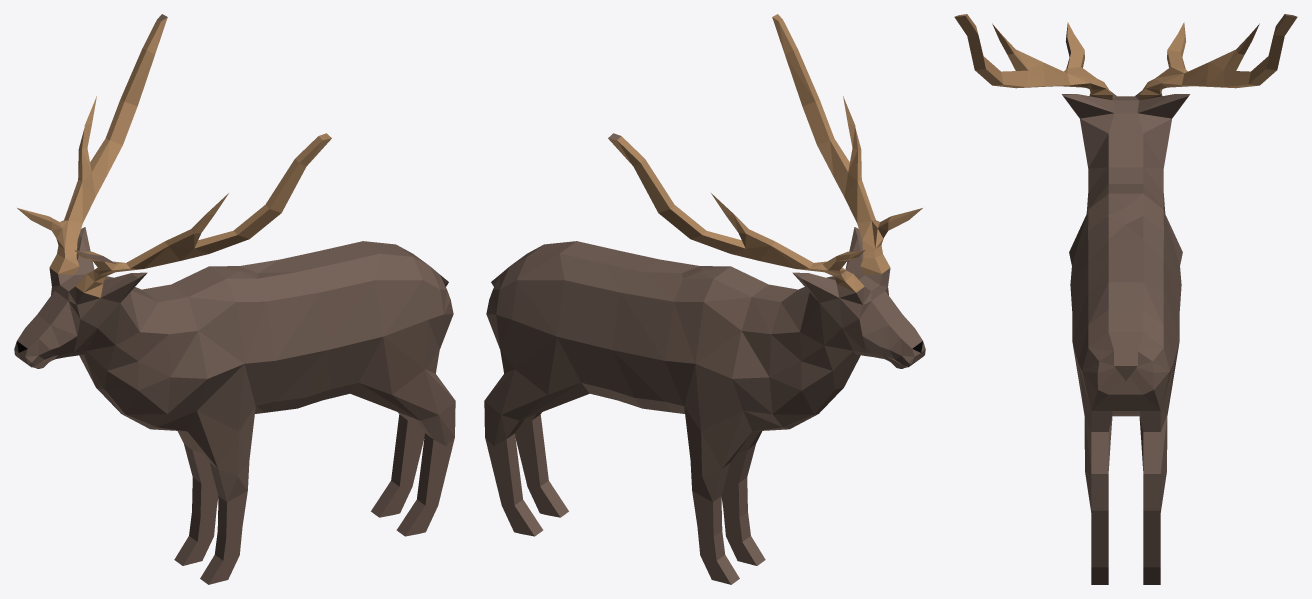
Rendered from brown-deer.glb.
The picture shows the model from 3 angles, left to right: view 1: azimuth 30°, elevation 25°; view 2: azimuth 150°, elevation 25°; view 3: azimuth 270°, elevation 25°; orthographic projection.
Visible parts, largest first — view 1: deer; view 2: deer; view 3: deer.
Boxes of the visible parts, x1,y1,x2,y2 form: deer: [14, 14, 455, 584]; deer: [484, 14, 925, 584]; deer: [954, 14, 1297, 584].
Size of the model in its own units: 1.17 by 1.28 by 0.8129.
